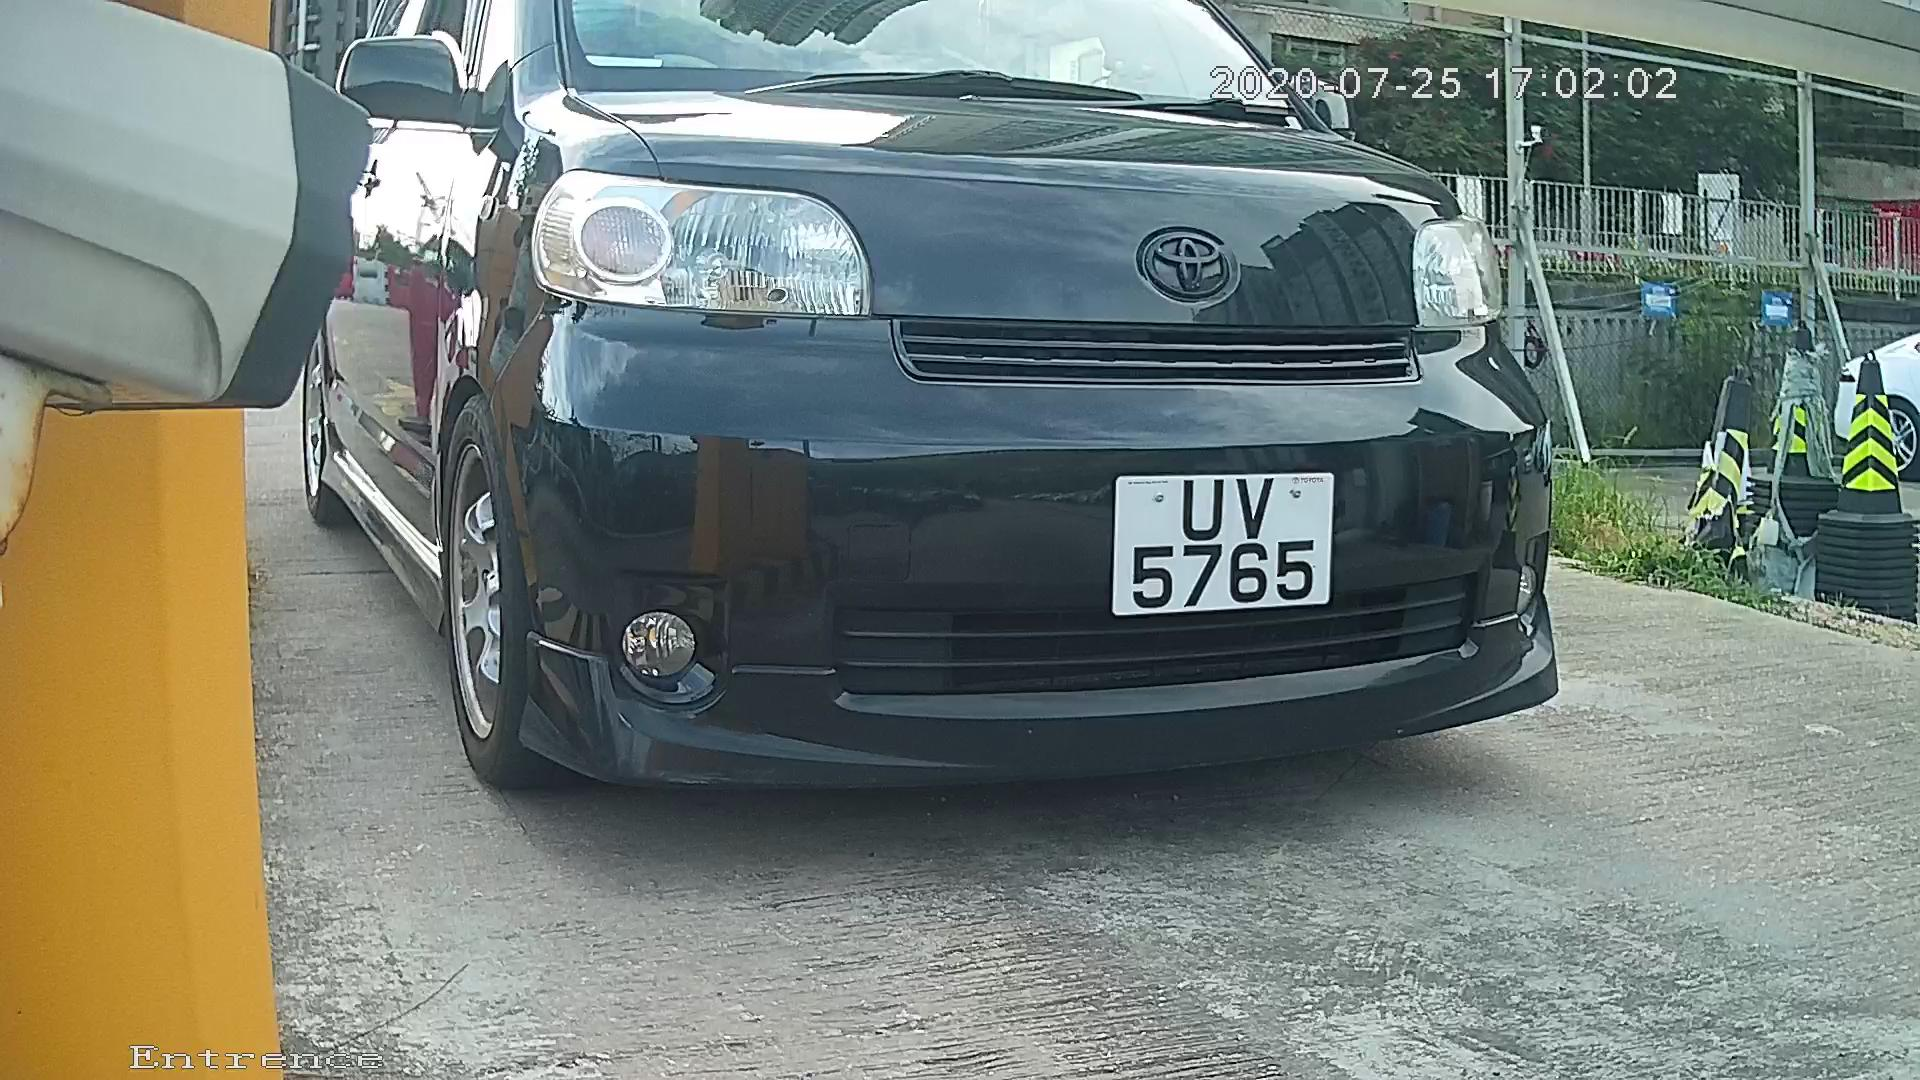License Plate: (1081, 454, 1363, 642)
